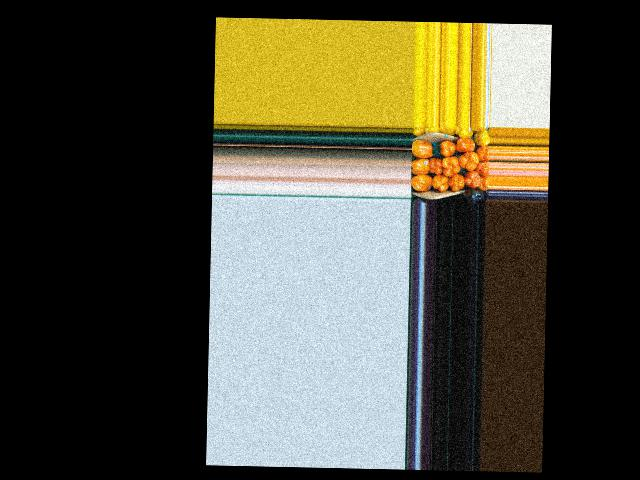bell_pepper: (452, 127, 474, 137)
